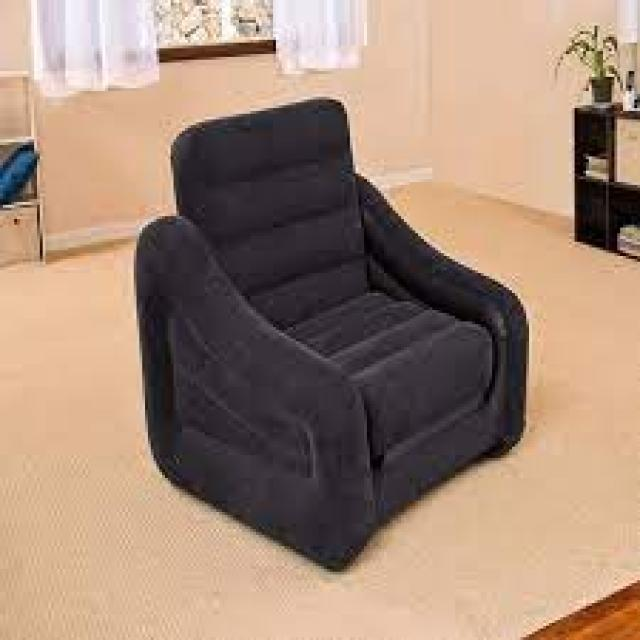chair: (112, 57, 544, 623)
